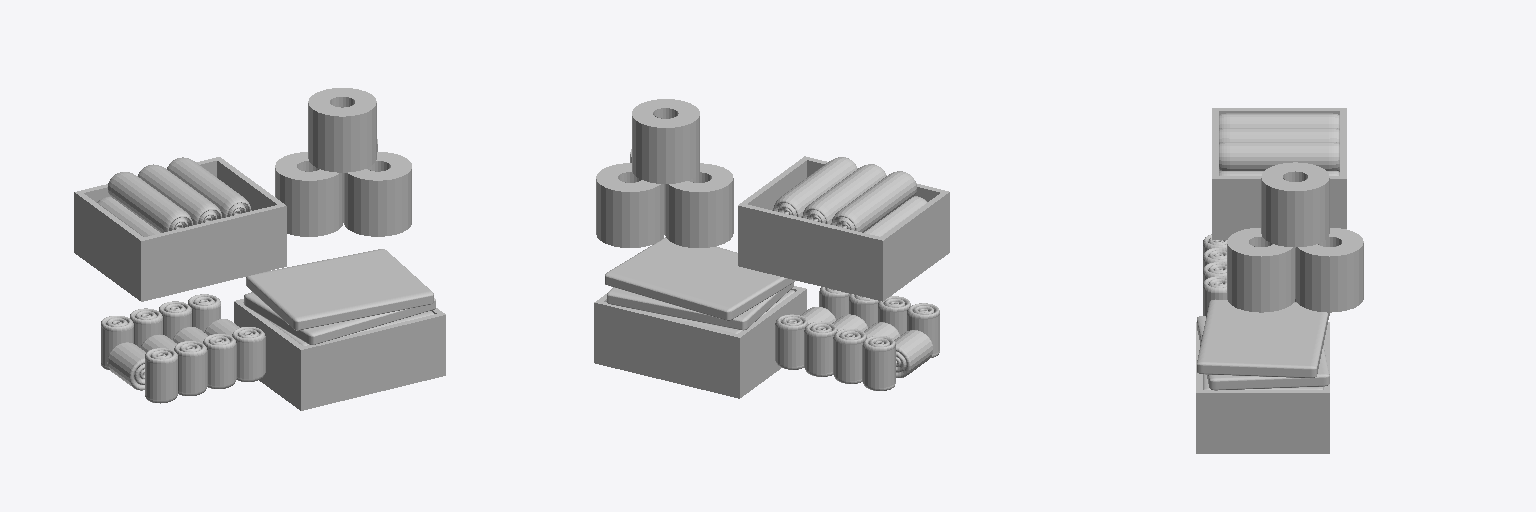
File: toiletpaper2.obj
3 views of the same model, side by side, from view 1: azimuth 30°, elevation 25°; view 2: azimuth 150°, elevation 25°; view 3: azimuth 270°, elevation 25° (orthographic).
Visible parts, largest first — view 1: CESTA_001, CESTA_002, DOBRADA_003, Group_004, Group_002, Group_003, Group_22_007, DOBRADA_002, Group_22_006, Group_22_005, PAPEL_003, PAPEL_005 (+8 smaller); view 2: CESTA_001, CESTA_002, DOBRADA_003, Group_004, Group_001, Group_003, Group_22_007, DOBRADA_002, Group_22_006, Group_22_005, PAPEL_004, PAPEL_006 (+8 smaller); view 3: CESTA_002, DOBRADA_003, Group_004, CESTA_001, Group_001, Group_002, Group_22_006, DOBRADA_002, Group_22_007, Group_22_005, PAPEL_010.
Part boxes in pixels (bbox=[...]): CESTA_001: bbox=[74, 157, 286, 301]; CESTA_002: bbox=[234, 299, 445, 410]; DOBRADA_003: bbox=[246, 249, 433, 330]; Group_004: bbox=[308, 88, 376, 172]; Group_002: bbox=[344, 152, 411, 236]; Group_003: bbox=[275, 152, 343, 236]; Group_22_007: bbox=[108, 172, 192, 232]; DOBRADA_002: bbox=[244, 292, 435, 344]; Group_22_006: bbox=[167, 157, 250, 217]; Group_22_005: bbox=[138, 164, 221, 224]; PAPEL_003: bbox=[145, 348, 177, 403]; PAPEL_005: bbox=[174, 341, 207, 395]; CESTA_001: bbox=[738, 156, 949, 301]; CESTA_002: bbox=[594, 286, 806, 398]; DOBRADA_003: bbox=[605, 237, 795, 320]; Group_004: bbox=[632, 99, 699, 183]; Group_001: bbox=[596, 163, 664, 247]; Group_003: bbox=[665, 163, 733, 247]; Group_22_007: bbox=[831, 171, 916, 232]; DOBRADA_002: bbox=[607, 283, 793, 330]; Group_22_006: bbox=[773, 157, 857, 217]; Group_22_005: bbox=[802, 164, 886, 224]; PAPEL_004: bbox=[862, 336, 895, 390]; PAPEL_006: bbox=[833, 329, 866, 383]; CESTA_002: bbox=[1196, 322, 1329, 453]; DOBRADA_003: bbox=[1197, 299, 1329, 377]; Group_004: bbox=[1261, 162, 1329, 247]; CESTA_001: bbox=[1212, 108, 1346, 239]; Group_001: bbox=[1295, 228, 1363, 312]; Group_002: bbox=[1227, 228, 1294, 312]; Group_22_006: bbox=[1219, 142, 1339, 171]; DOBRADA_002: bbox=[1197, 316, 1329, 390]; Group_22_007: bbox=[1219, 113, 1339, 128]; Group_22_005: bbox=[1219, 128, 1339, 142]; PAPEL_010: bbox=[1203, 276, 1226, 315].
Size of the model in its own units: 56.03 by 45.16 by 27.45.